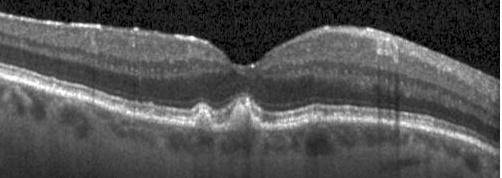lamellar_macular_rupture: (225, 54, 267, 66)
retinal_drusen: (228, 105, 260, 133), (194, 113, 212, 131)
